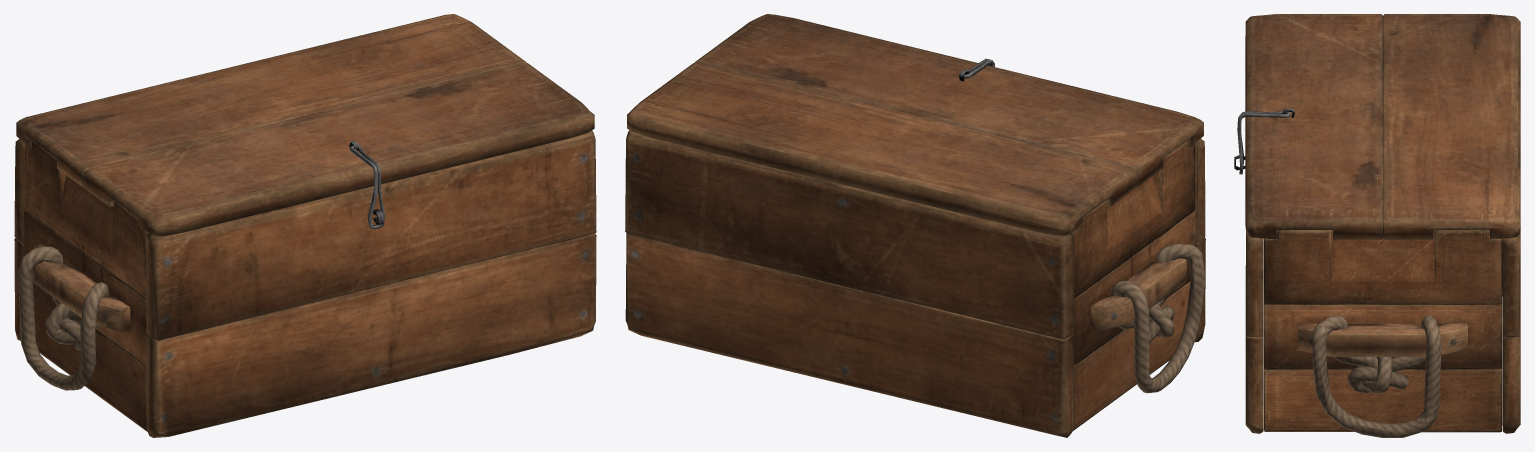
Rendered from wooden_crate_01.gltf.
The picture shows the model from 3 angles, left to right: view 1: azimuth 30°, elevation 25°; view 2: azimuth 150°, elevation 25°; view 3: azimuth 270°, elevation 25°; orthographic projection. The views are drawn at different scales.
Parts seen in each view (by area): view 1: wooden_crate_01, wooden_crate_01_lid, wooden_crate_01_latch; view 2: wooden_crate_01, wooden_crate_01_lid; view 3: wooden_crate_01_lid, wooden_crate_01, wooden_crate_01_latch.
Part boxes in pixels (x1,y1,x2,y2): wooden_crate_01: (14, 131, 596, 437); wooden_crate_01_lid: (16, 14, 594, 236); wooden_crate_01_latch: (350, 145, 385, 229); wooden_crate_01: (625, 130, 1205, 437); wooden_crate_01_lid: (627, 14, 1203, 236); wooden_crate_01_lid: (1245, 14, 1520, 239); wooden_crate_01: (1234, 155, 1520, 437); wooden_crate_01_latch: (1237, 111, 1290, 174).
Size of the model in its own units: 0.8245 by 0.3495 by 0.4072.
1 material, 1 textured.
